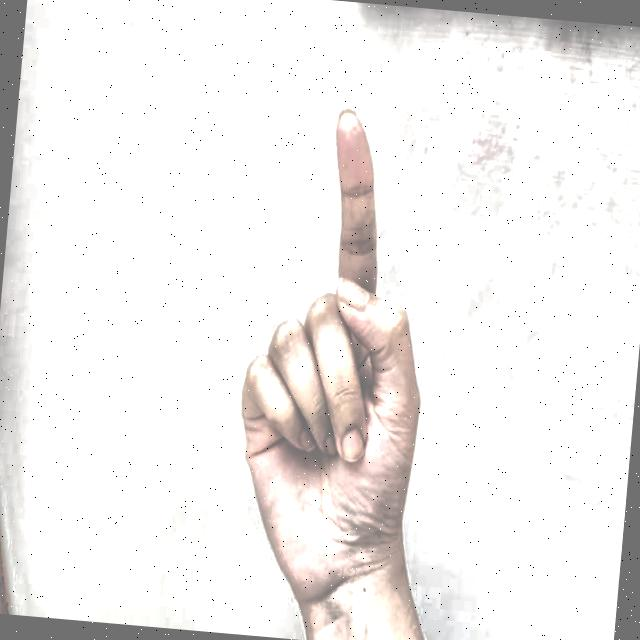U: (190, 80, 463, 596)
